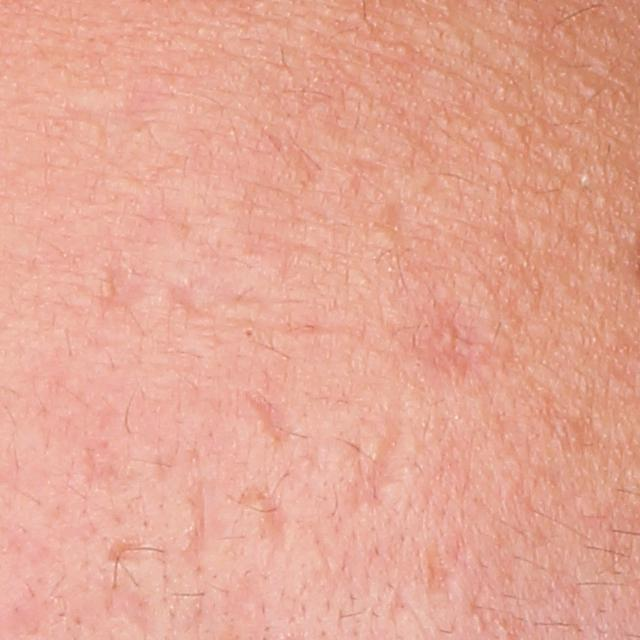atrophic_scar: (323, 383, 424, 529), (161, 449, 212, 556), (94, 248, 169, 310), (239, 479, 294, 556), (84, 434, 136, 500), (245, 388, 298, 451), (98, 586, 156, 639), (102, 537, 169, 567), (421, 549, 453, 600)
comedo: (364, 220, 396, 251), (241, 322, 257, 344)
